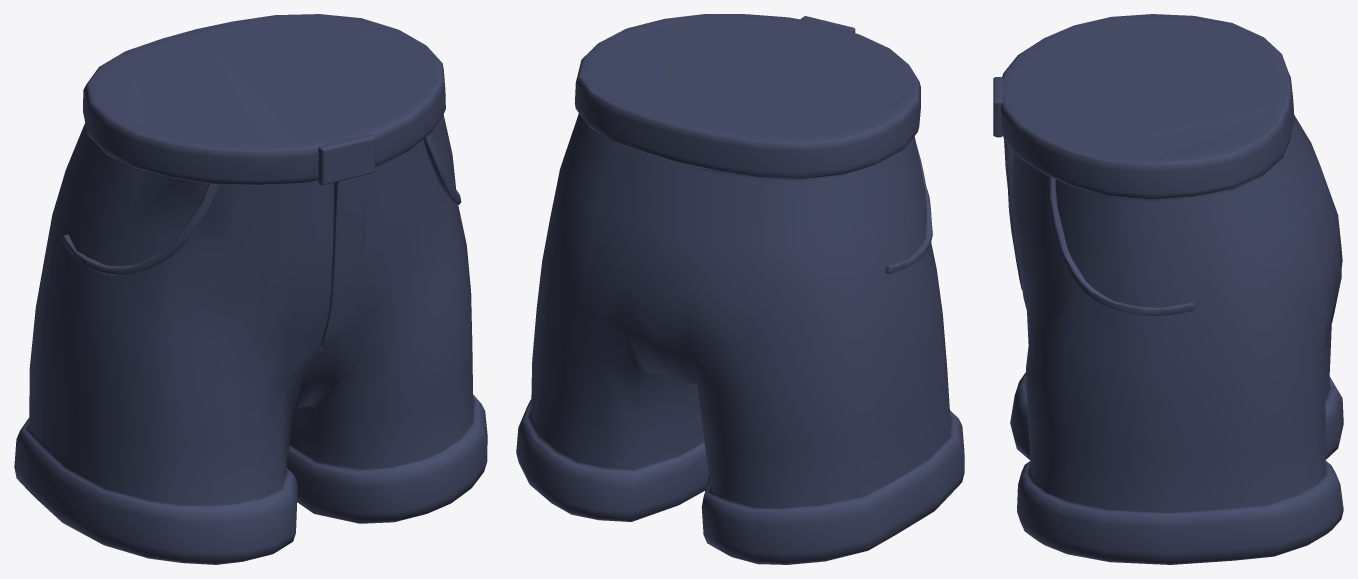
File: Dummy_bottom_001.glb
The picture shows the model from 3 angles, left to right: view 1: azimuth 30°, elevation 25°; view 2: azimuth 150°, elevation 25°; view 3: azimuth 270°, elevation 25°; orthographic projection. The views are drawn at different scales.
Parts seen in each view (by area): view 1: denin_short; view 2: denin_short; view 3: denin_short.
Boxes of the visible parts, left/top/right/bottom form: denin_short: left=14, top=14, right=487, bottom=564; denin_short: left=516, top=14, right=964, bottom=564; denin_short: left=993, top=14, right=1343, bottom=564.
Size of the model in its own units: 2.39 by 2.33 by 1.84.
